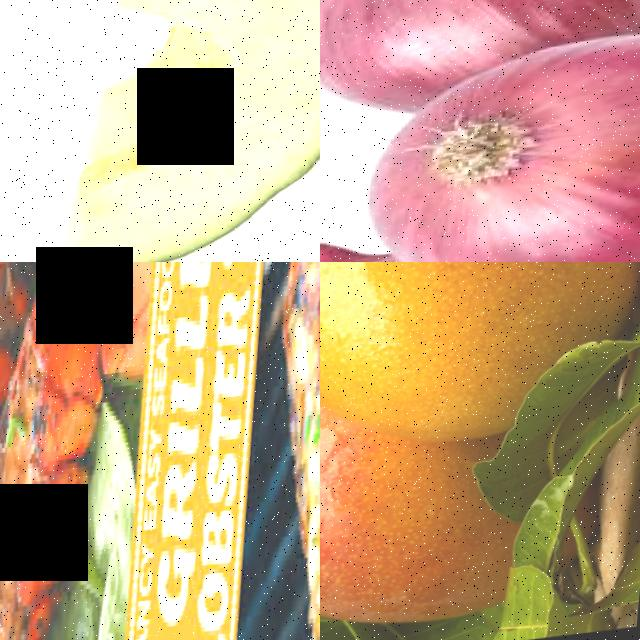lobster tails: (0, 262, 172, 640)
mango: (320, 417, 526, 640), (320, 262, 640, 374)
melon: (47, 0, 320, 262)
onion: (359, 17, 640, 262), (320, 0, 640, 75)
